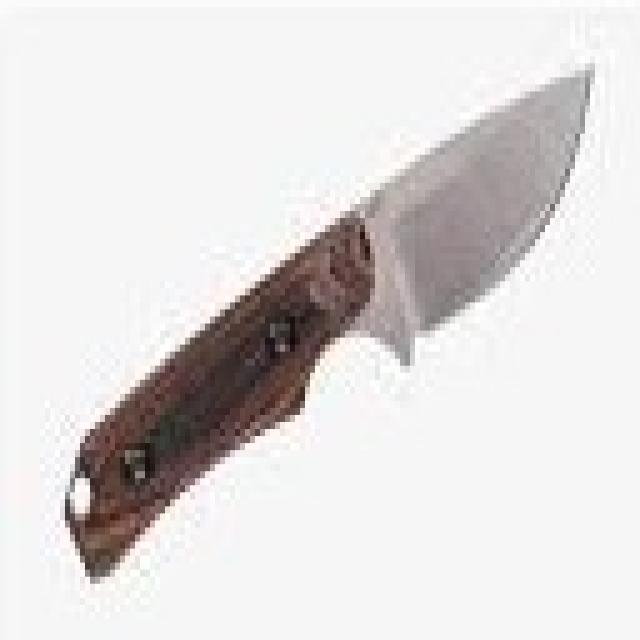knife: (58, 50, 601, 596)
